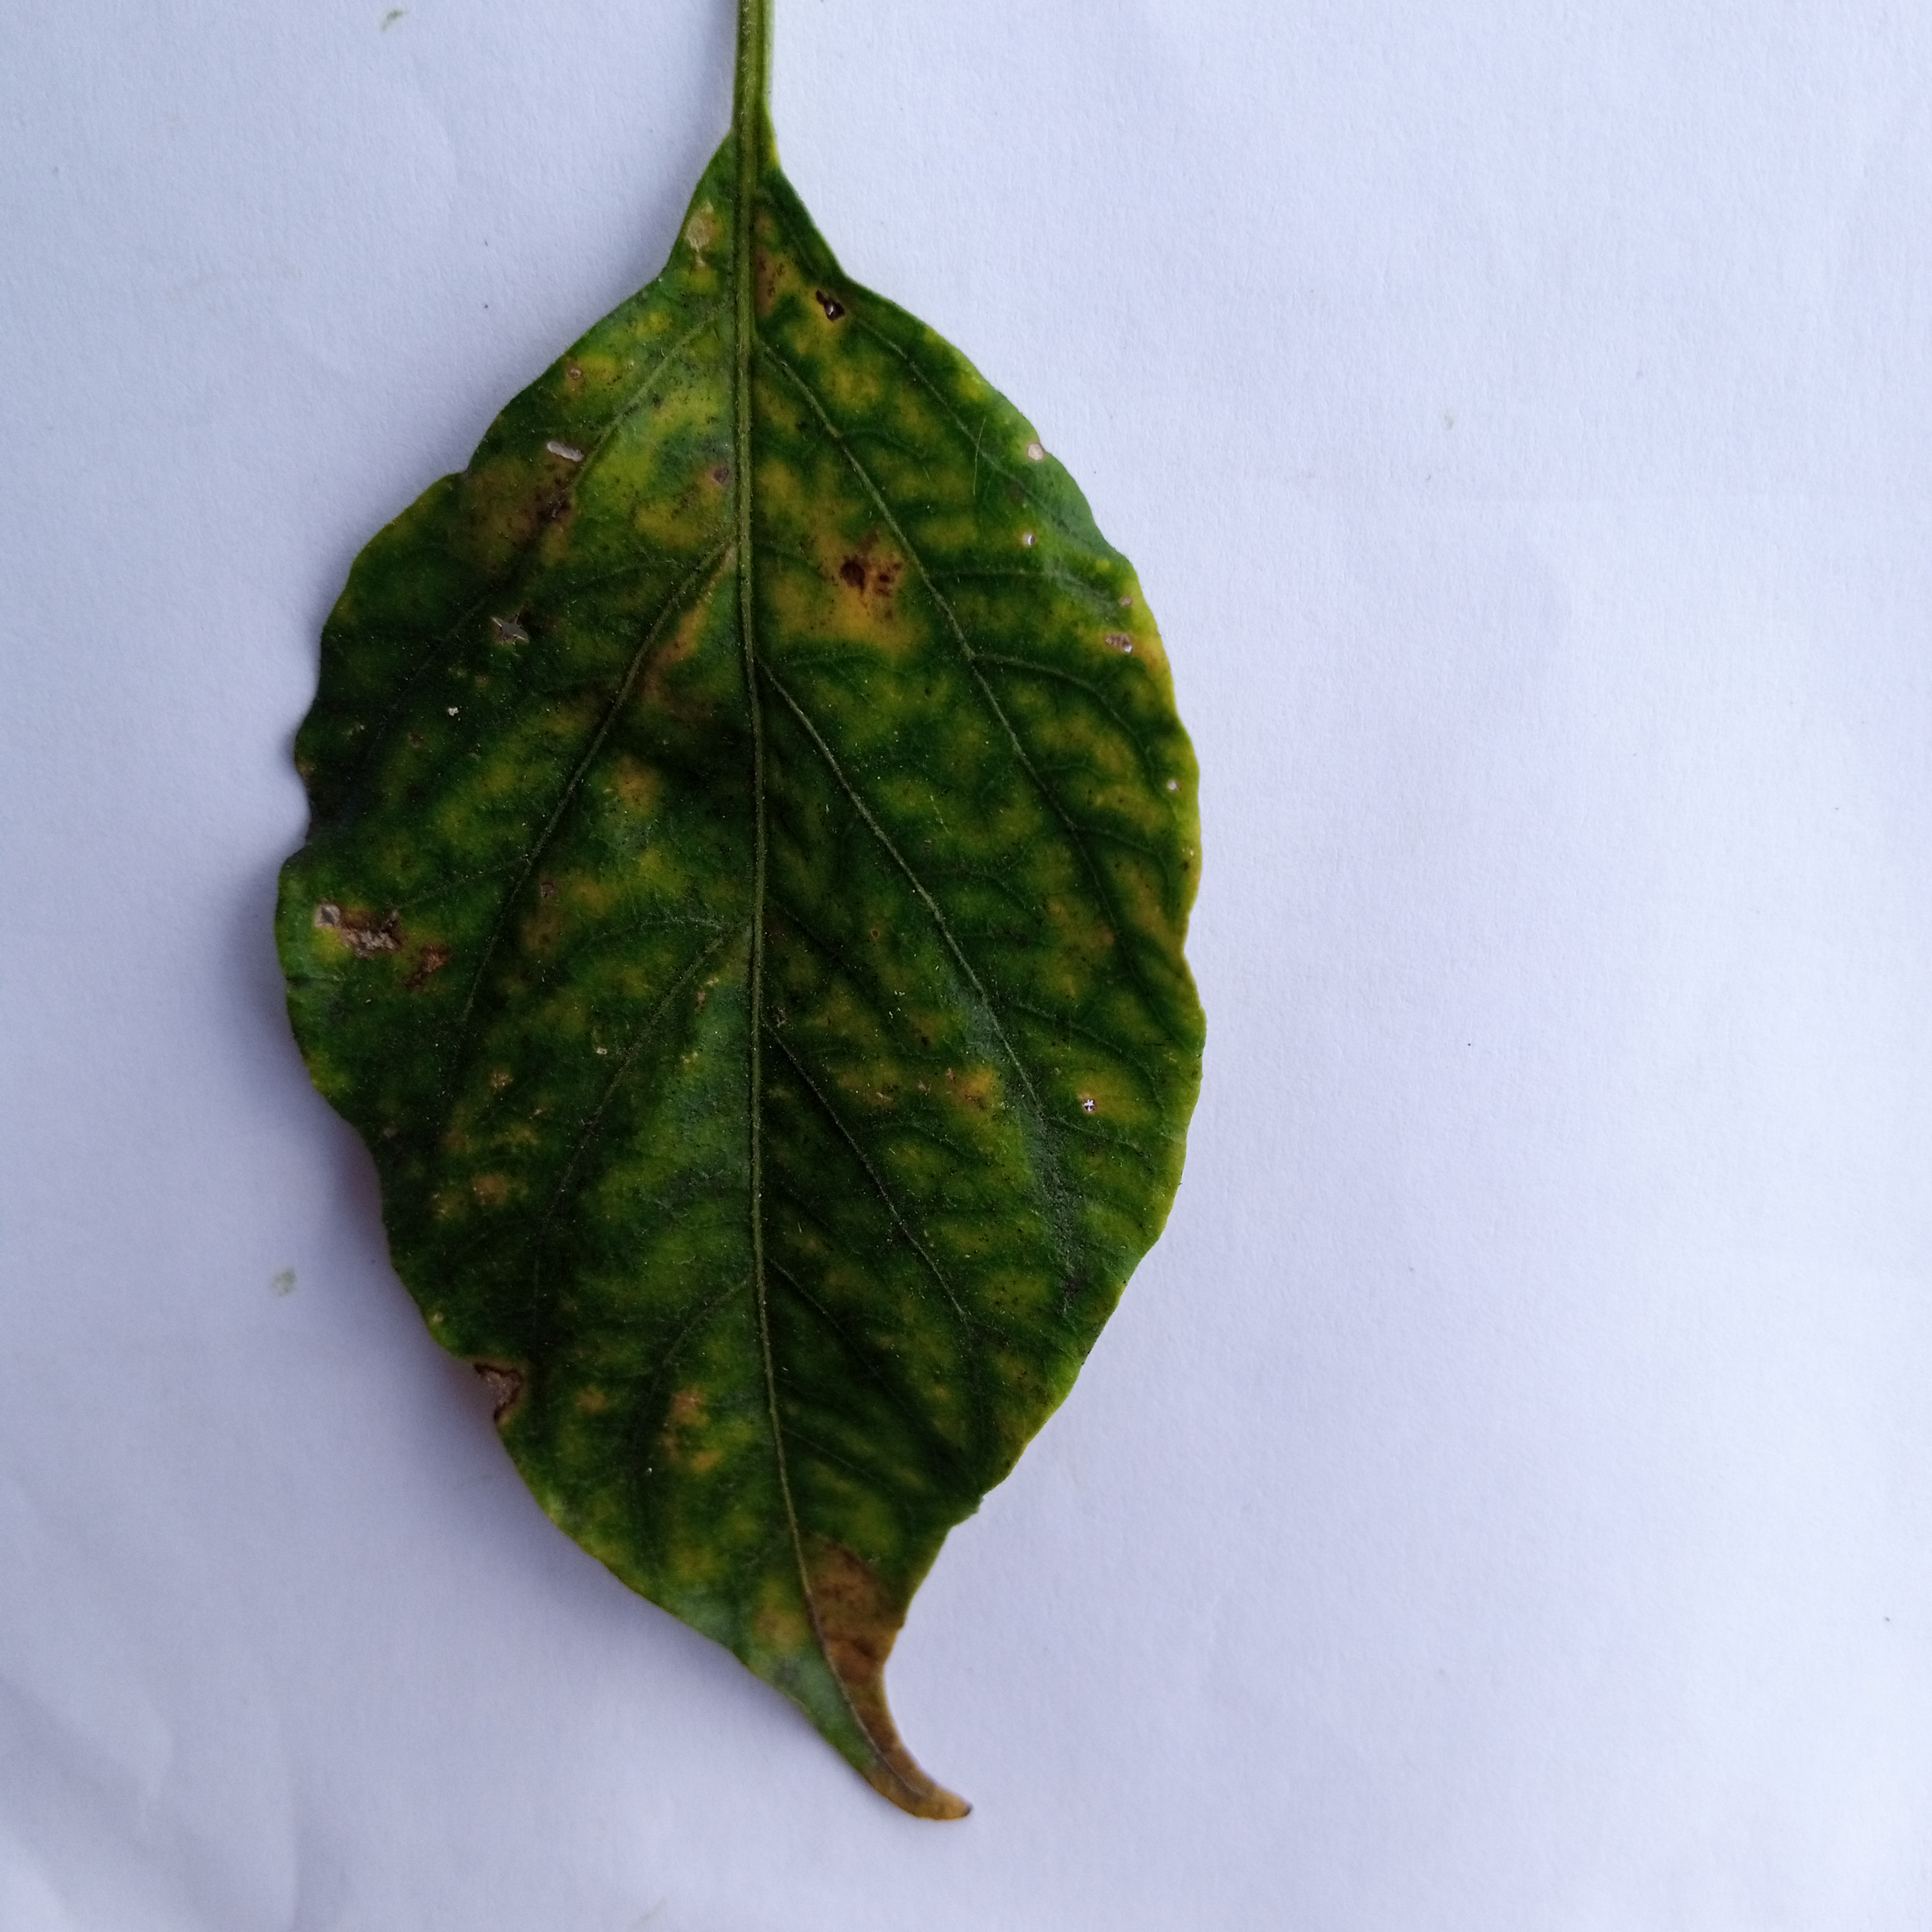Leaf: (251, 138, 1274, 1851)
